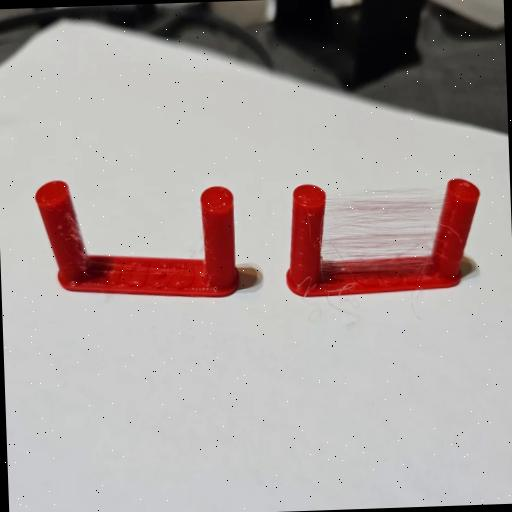stringing: (321, 188, 447, 272), (70, 206, 89, 269)
